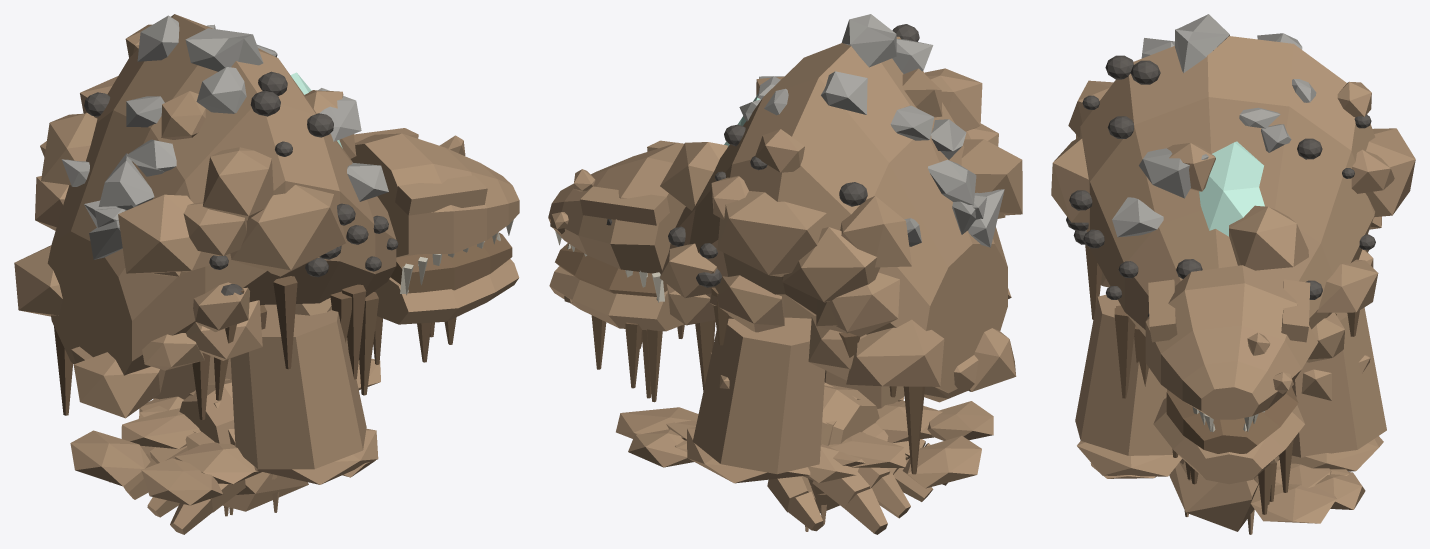
The model's file is boss_gnashroot.glb.
3 views of the same model, side by side, from view 1: azimuth 30°, elevation 25°; view 2: azimuth 150°, elevation 25°; view 3: azimuth 270°, elevation 25° (orthographic). The views are drawn at different scales.
Parts seen in each view (by area): view 1: Gnashroot_Mass, Gnashroot_Legs, Gnashroot_Stones, Gnashroot_Head, Gnashroot_Drips, Gnashroot_Eyes, Gnashroot_Jaw, Gnashroot_Maw, Gnashroot_Hand, Gnashroot_Arm, Gnashroot_ArmKnot, Gnashroot_Fangs; view 2: Gnashroot_Mass, Gnashroot_Legs, Gnashroot_Head, Gnashroot_Stones, Gnashroot_Hand, Gnashroot_Drips, Gnashroot_Jaw, Gnashroot_Maw, Gnashroot_Arm, Gnashroot_Eyes; view 3: Gnashroot_Mass, Gnashroot_Legs, Gnashroot_Head, Gnashroot_Stones, Gnashroot_Eyes, Gnashroot_Jaw, Gnashroot_Core, Gnashroot_Drips, Gnashroot_Maw, Gnashroot_ArmKnot.
Part boxes in pixels (x1,y1,x2,y2): Gnashroot_Mass: (14, 14, 396, 418); Gnashroot_Legs: (70, 304, 380, 505); Gnashroot_Stones: (61, 15, 388, 259); Gnashroot_Head: (350, 128, 519, 257); Gnashroot_Drips: (54, 276, 456, 420); Gnashroot_Eyes: (84, 71, 398, 297); Gnashroot_Jaw: (374, 259, 519, 324); Gnashroot_Maw: (390, 232, 512, 293); Gnashroot_Hand: (109, 378, 276, 534); Gnashroot_Arm: (179, 379, 234, 443); Gnashroot_ArmKnot: (222, 472, 308, 516); Gnashroot_Fangs: (400, 219, 513, 295); Gnashroot_Mass: (660, 36, 1022, 402); Gnashroot_Legs: (616, 317, 993, 488); Gnashroot_Head: (548, 140, 685, 274); Gnashroot_Stones: (739, 14, 1004, 247); Gnashroot_Hand: (767, 382, 947, 534); Gnashroot_Drips: (591, 287, 924, 474); Gnashroot_Jaw: (549, 266, 683, 331); Gnashroot_Maw: (555, 243, 667, 296); Gnashroot_Arm: (810, 384, 879, 494); Gnashroot_Eyes: (606, 24, 919, 287); Gnashroot_Mass: (1051, 36, 1415, 362); Gnashroot_Legs: (1075, 294, 1386, 523); Gnashroot_Head: (1145, 265, 1318, 419); Gnashroot_Stones: (1112, 14, 1316, 237); Gnashroot_Eyes: (1066, 55, 1375, 317); Gnashroot_Jaw: (1153, 397, 1304, 484); Gnashroot_Core: (1199, 141, 1264, 236); Gnashroot_Drips: (1085, 245, 1359, 514); Gnashroot_Maw: (1166, 387, 1298, 453); Gnashroot_ArmKnot: (1169, 462, 1258, 534).
Size of the model in its own units: 30.04 by 32.9 by 22.09.
